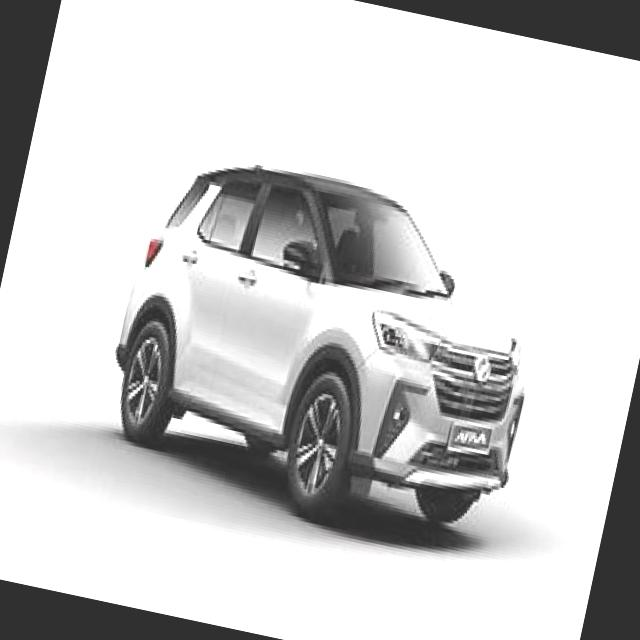PeroduaAtiva: (87, 133, 564, 555)
